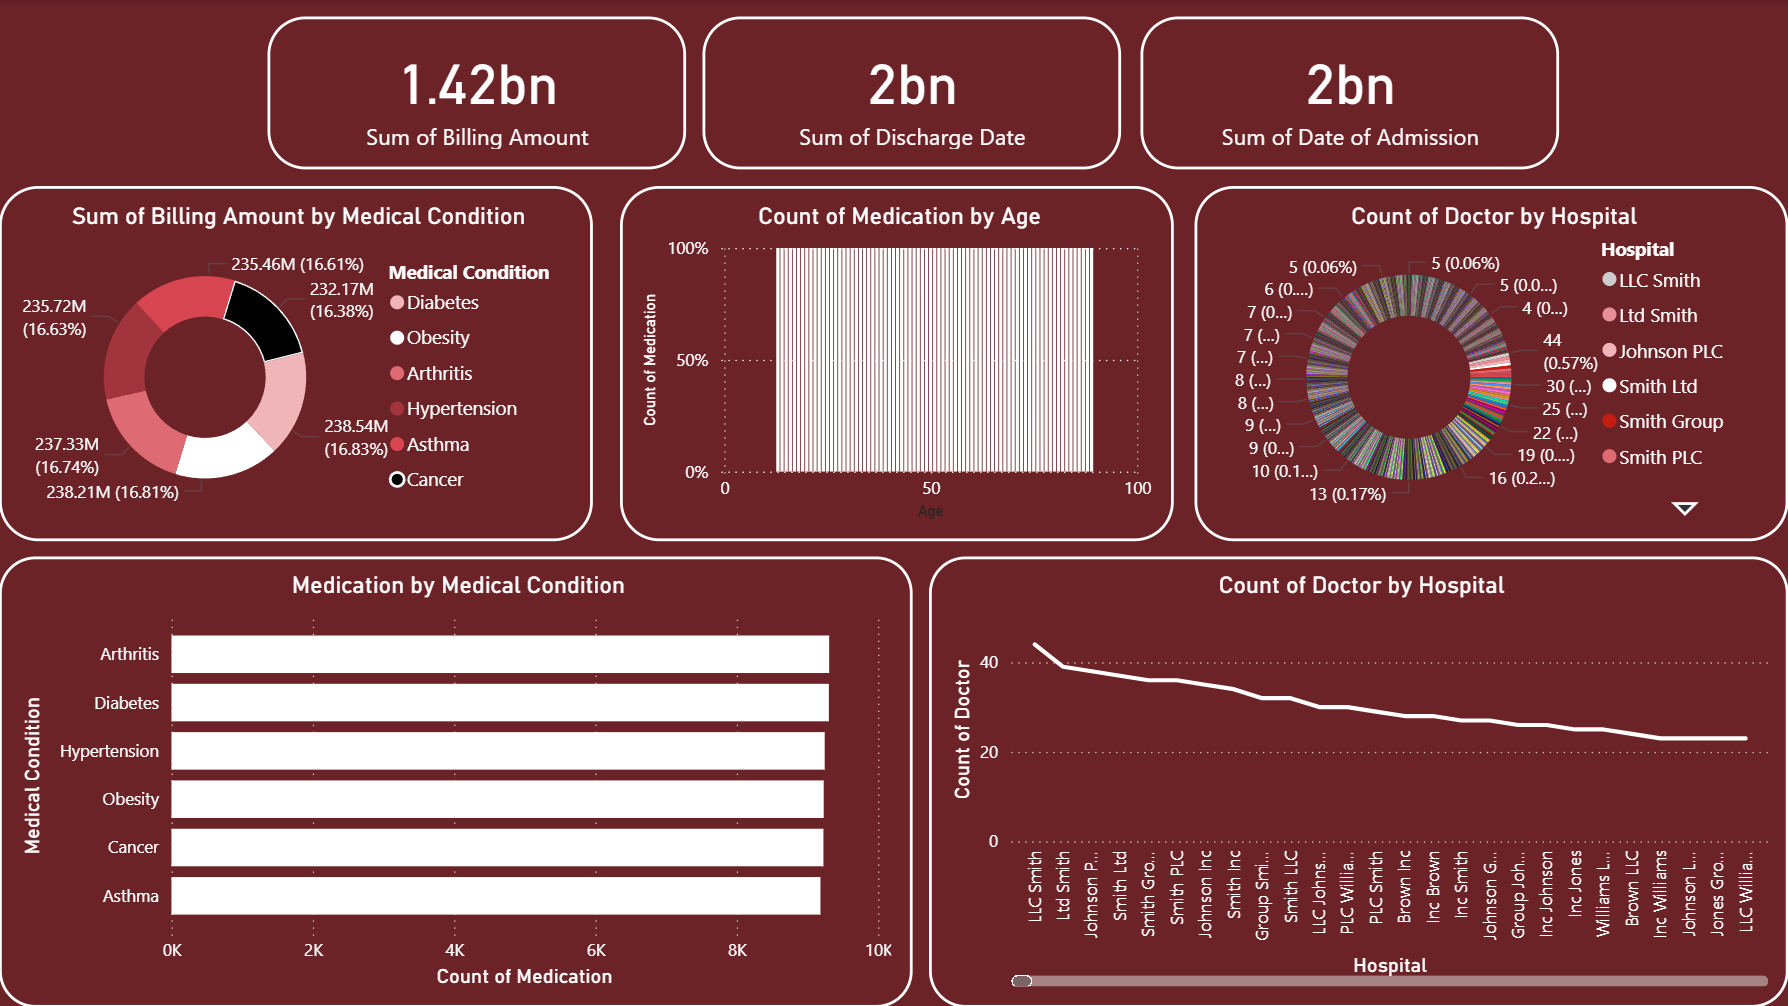

This screenshot's page, from the dashboard's own definition file:
{"tool":"powerbi","page":{"name":"Page 1","canvas":[1280,720],"ordinal":0},"visuals":[{"type":"clusteredBarChart","title":"Medication by Medical Condition","fields":{"Category":["16604de4c97977c512d4f70e26ace3a.Medical Condition"],"Y":["CountNonNull(16604de4c97977c512d4f70e26ace3a.Medication)"]},"box":[0,397.6,653.3,322.4],"z":0},{"type":"lineChart","fields":{"Category":["16604de4c97977c512d4f70e26ace3a.Hospital"],"Y":["CountNonNull(16604de4c97977c512d4f70e26ace3a.Doctor)"]},"box":[664.6,397.6,614.9,322.4],"z":1000},{"type":"card","fields":{"Values":["Sum(16604de4c97977c512d4f70e26ace3a.Billing Amount)"]},"box":[191.7,11.4,299.6,109.3],"z":2000},{"type":"card","fields":{"Values":["Sum(16604de4c97977c512d4f70e26ace3a.Discharge Date)"]},"box":[502.7,11.4,299.6,109.3],"z":3000},{"type":"card","fields":{"Values":["Sum(16604de4c97977c512d4f70e26ace3a.Date of Admission)"]},"box":[816.6,11.4,299.6,109.3],"z":4000},{"type":"donutChart","fields":{"Category":["16604de4c97977c512d4f70e26ace3a.Medical Condition"],"Y":["Sum(16604de4c97977c512d4f70e26ace3a.Billing Amount)"]},"box":[0,133.5,424.6,254.2],"z":5000},{"type":"donutChart","fields":{"Category":["16604de4c97977c512d4f70e26ace3a.Hospital"],"Y":["CountNonNull(16604de4c97977c512d4f70e26ace3a.Doctor)"]},"box":[854.9,133.5,424.6,254.2],"z":6000},{"type":"hundredPercentStackedColumnChart","fields":{"Y":["CountNonNull(16604de4c97977c512d4f70e26ace3a.Medication)"],"Category":["16604de4c97977c512d4f70e26ace3a.Age"]},"box":[444.5,133.5,396.2,254.2],"z":6001}]}

Visuals, with their boxes in screenshot pixels (x1, y1, x2, y2), scaled from the page's 1280x720 canvas onto the 1788x1006 screenshot:
"Medication by Medical Condition" clusteredBarChart: (x1=0, y1=556, x2=913, y2=1005)
lineChart - 16604de4c97977c512d4f70e26ace3a.Hospital x CountNonNull(16604de4c97977c512d4f70e26ace3a.Doctor): (x1=928, y1=556, x2=1787, y2=1005)
card - Sum(16604de4c97977c512d4f70e26ace3a.Billing Amount): (x1=268, y1=16, x2=686, y2=169)
card - Sum(16604de4c97977c512d4f70e26ace3a.Discharge Date): (x1=702, y1=16, x2=1121, y2=169)
card - Sum(16604de4c97977c512d4f70e26ace3a.Date of Admission): (x1=1141, y1=16, x2=1559, y2=169)
donutChart - 16604de4c97977c512d4f70e26ace3a.Medical Condition x Sum(16604de4c97977c512d4f70e26ace3a.Billing Amount): (x1=0, y1=187, x2=593, y2=542)
donutChart - 16604de4c97977c512d4f70e26ace3a.Hospital x CountNonNull(16604de4c97977c512d4f70e26ace3a.Doctor): (x1=1194, y1=187, x2=1787, y2=542)
hundredPercentStackedColumnChart - CountNonNull(16604de4c97977c512d4f70e26ace3a.Medication) x 16604de4c97977c512d4f70e26ace3a.Age: (x1=621, y1=187, x2=1174, y2=542)
